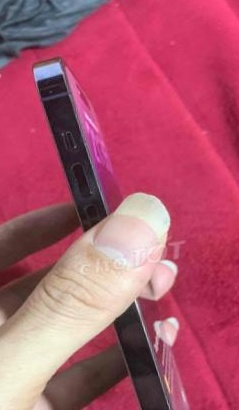scratch: (40, 75, 62, 103)
